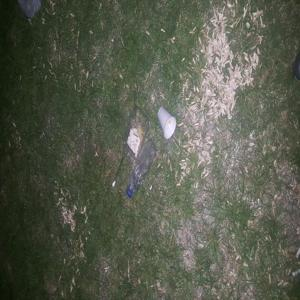cardboard: (150, 107, 184, 144)
plastic: (117, 138, 163, 198), (123, 123, 150, 155)
